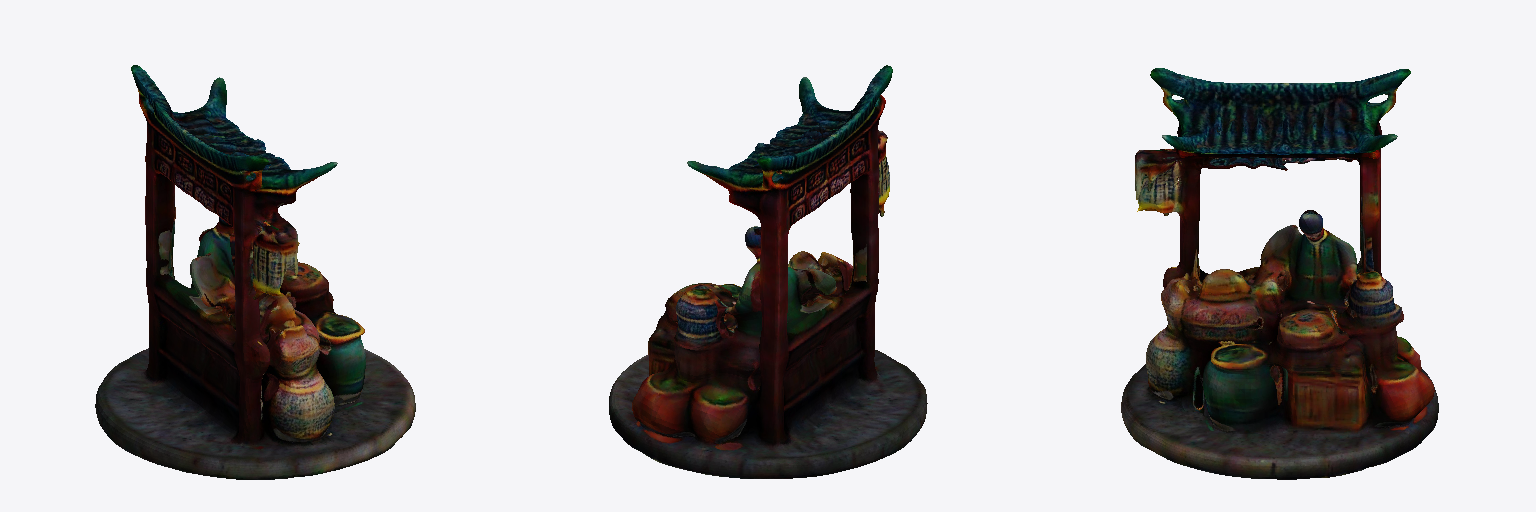
3 renders of one model, left to right at view 1: azimuth 30°, elevation 25°; view 2: azimuth 150°, elevation 25°; view 3: azimuth 270°, elevation 25°, orthographic.
Parts seen in each view (by area): view 1: mesh; view 2: mesh; view 3: mesh.
Part boxes in pixels (left/top/right/bottom): mesh: left=95, top=65, right=415, bottom=479; mesh: left=609, top=65, right=927, bottom=478; mesh: left=1121, top=68, right=1438, bottom=479.
Bounding box in the file's own units: 0.9088 × 0.9968 × 0.9052.
Materials: 1 (1 with a texture image).